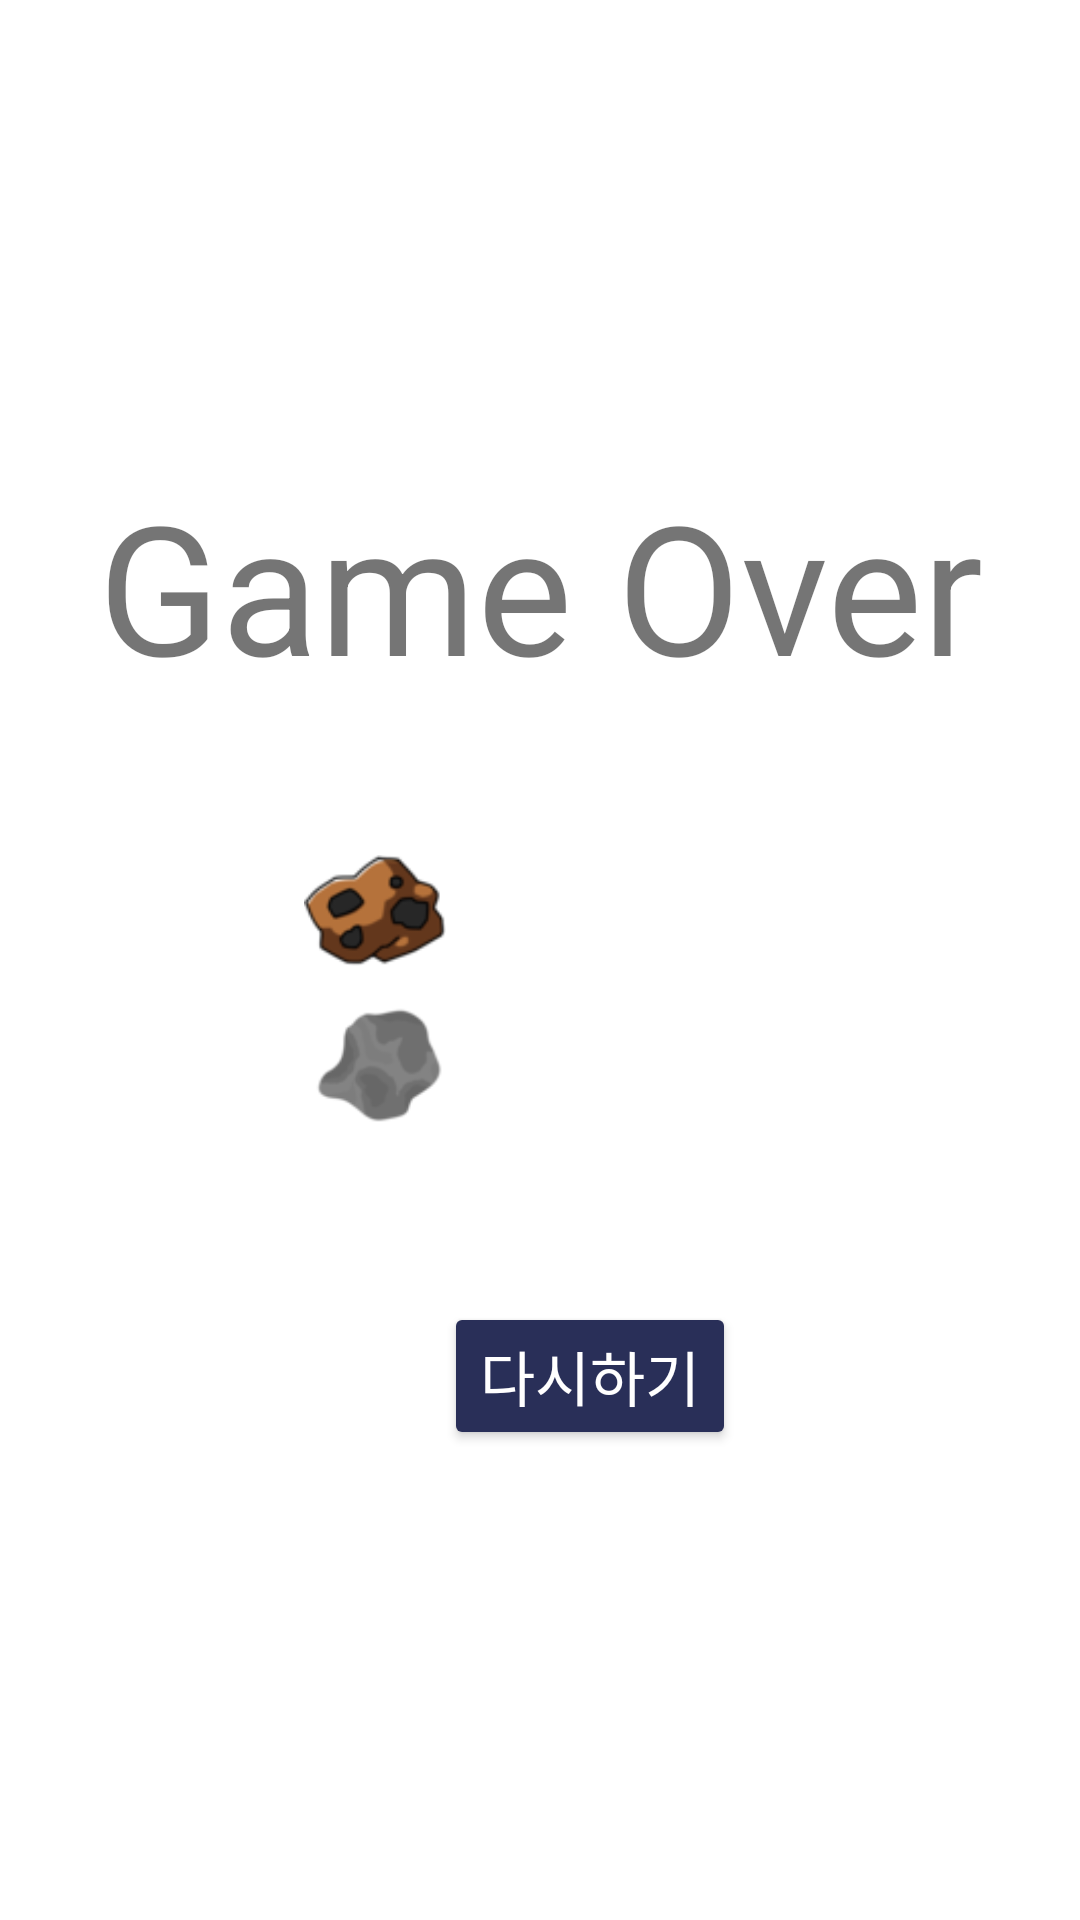

Icons on this 1080x1920 Android screen, each with its box as (x1=x1, y1=y1, x2=x2, y2=y2):
asteroid: (x1=304, y1=855, x2=445, y2=965), (x1=318, y1=1010, x2=441, y2=1121)
